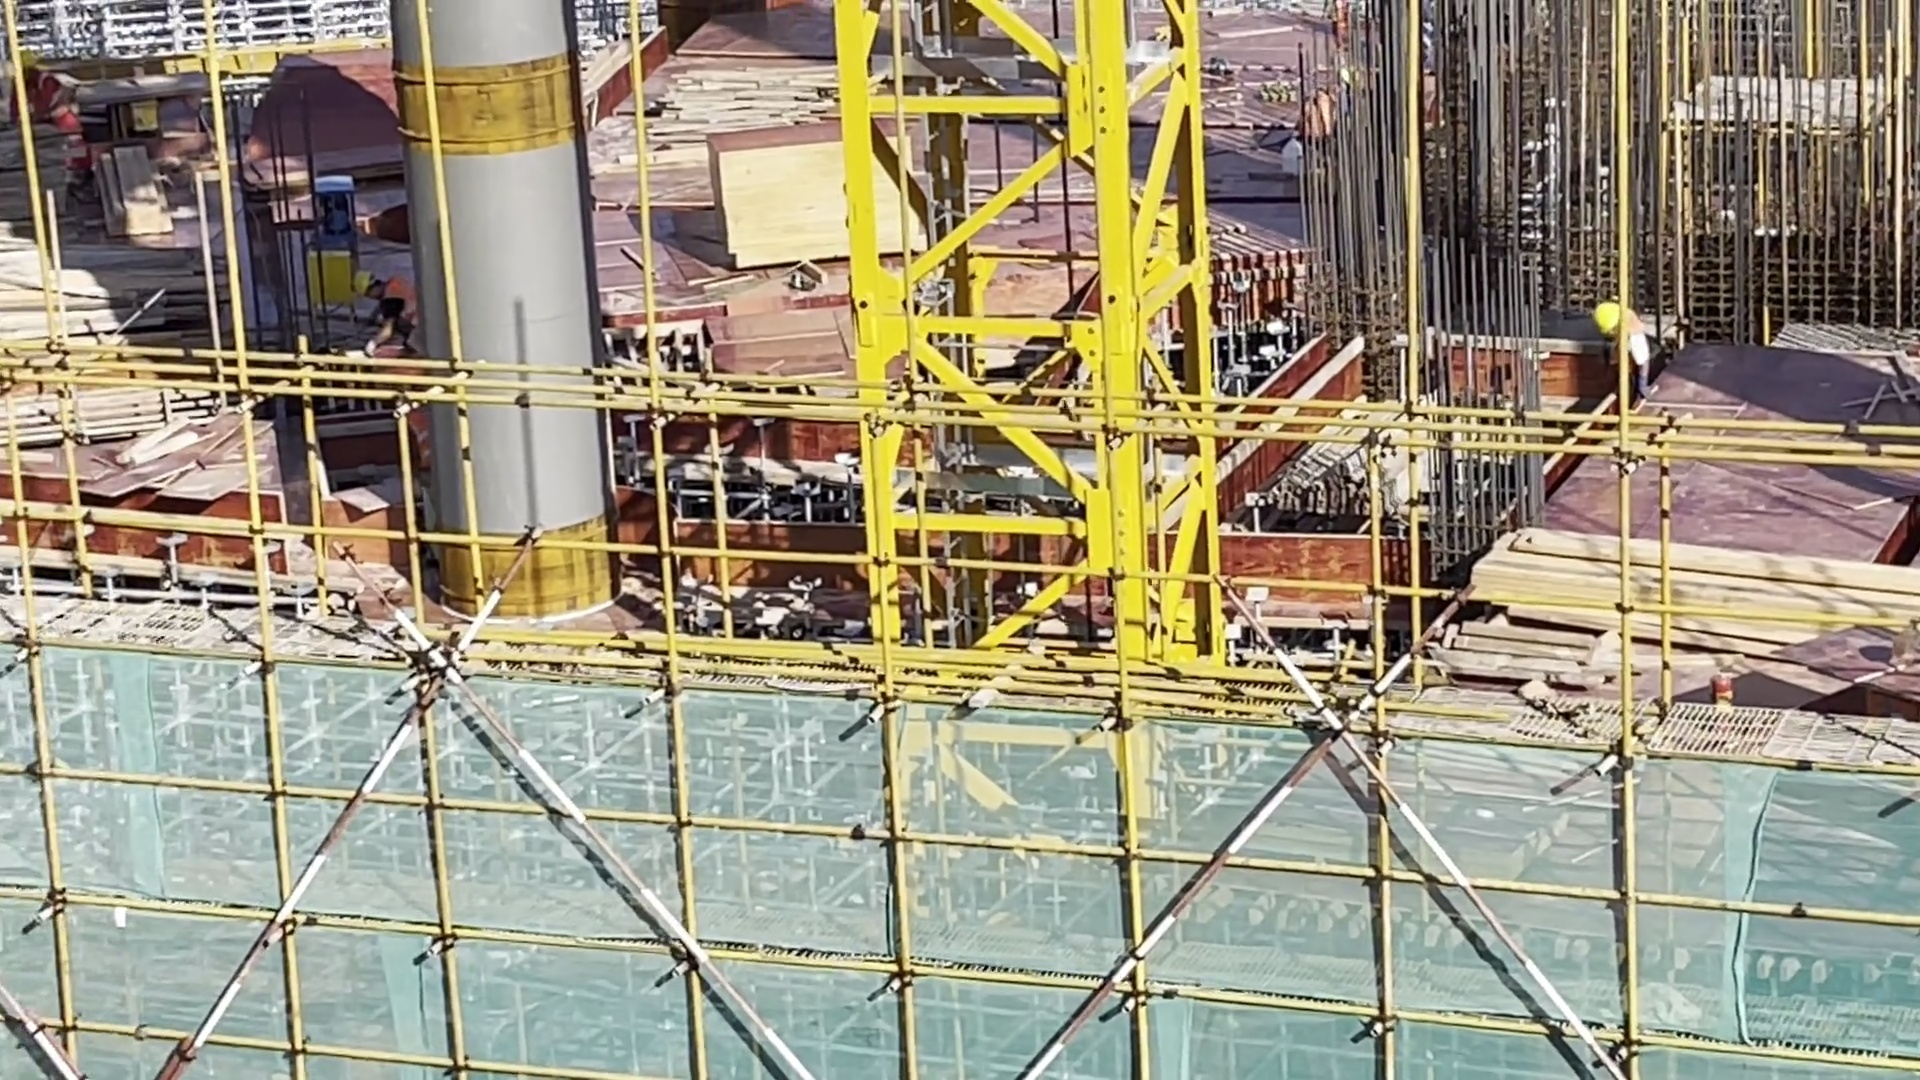helmet: (1583, 295, 1623, 341), (345, 262, 371, 292)
person: (1587, 298, 1666, 412), (346, 271, 431, 363)
